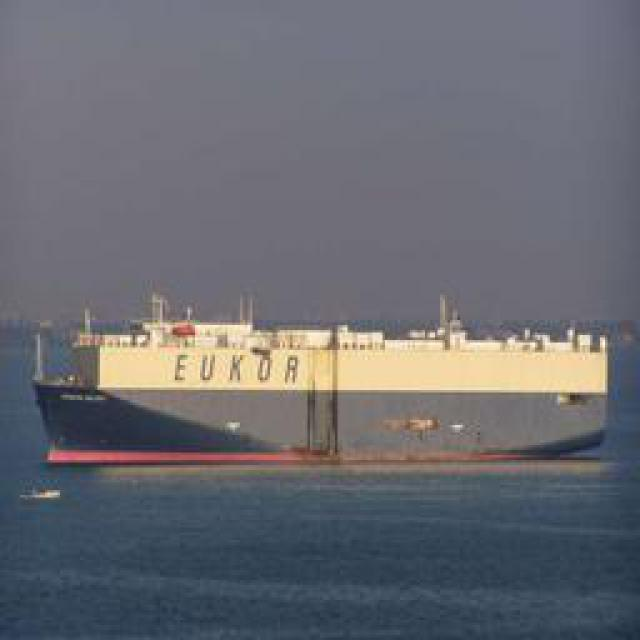Ship: (36, 320, 629, 465)
